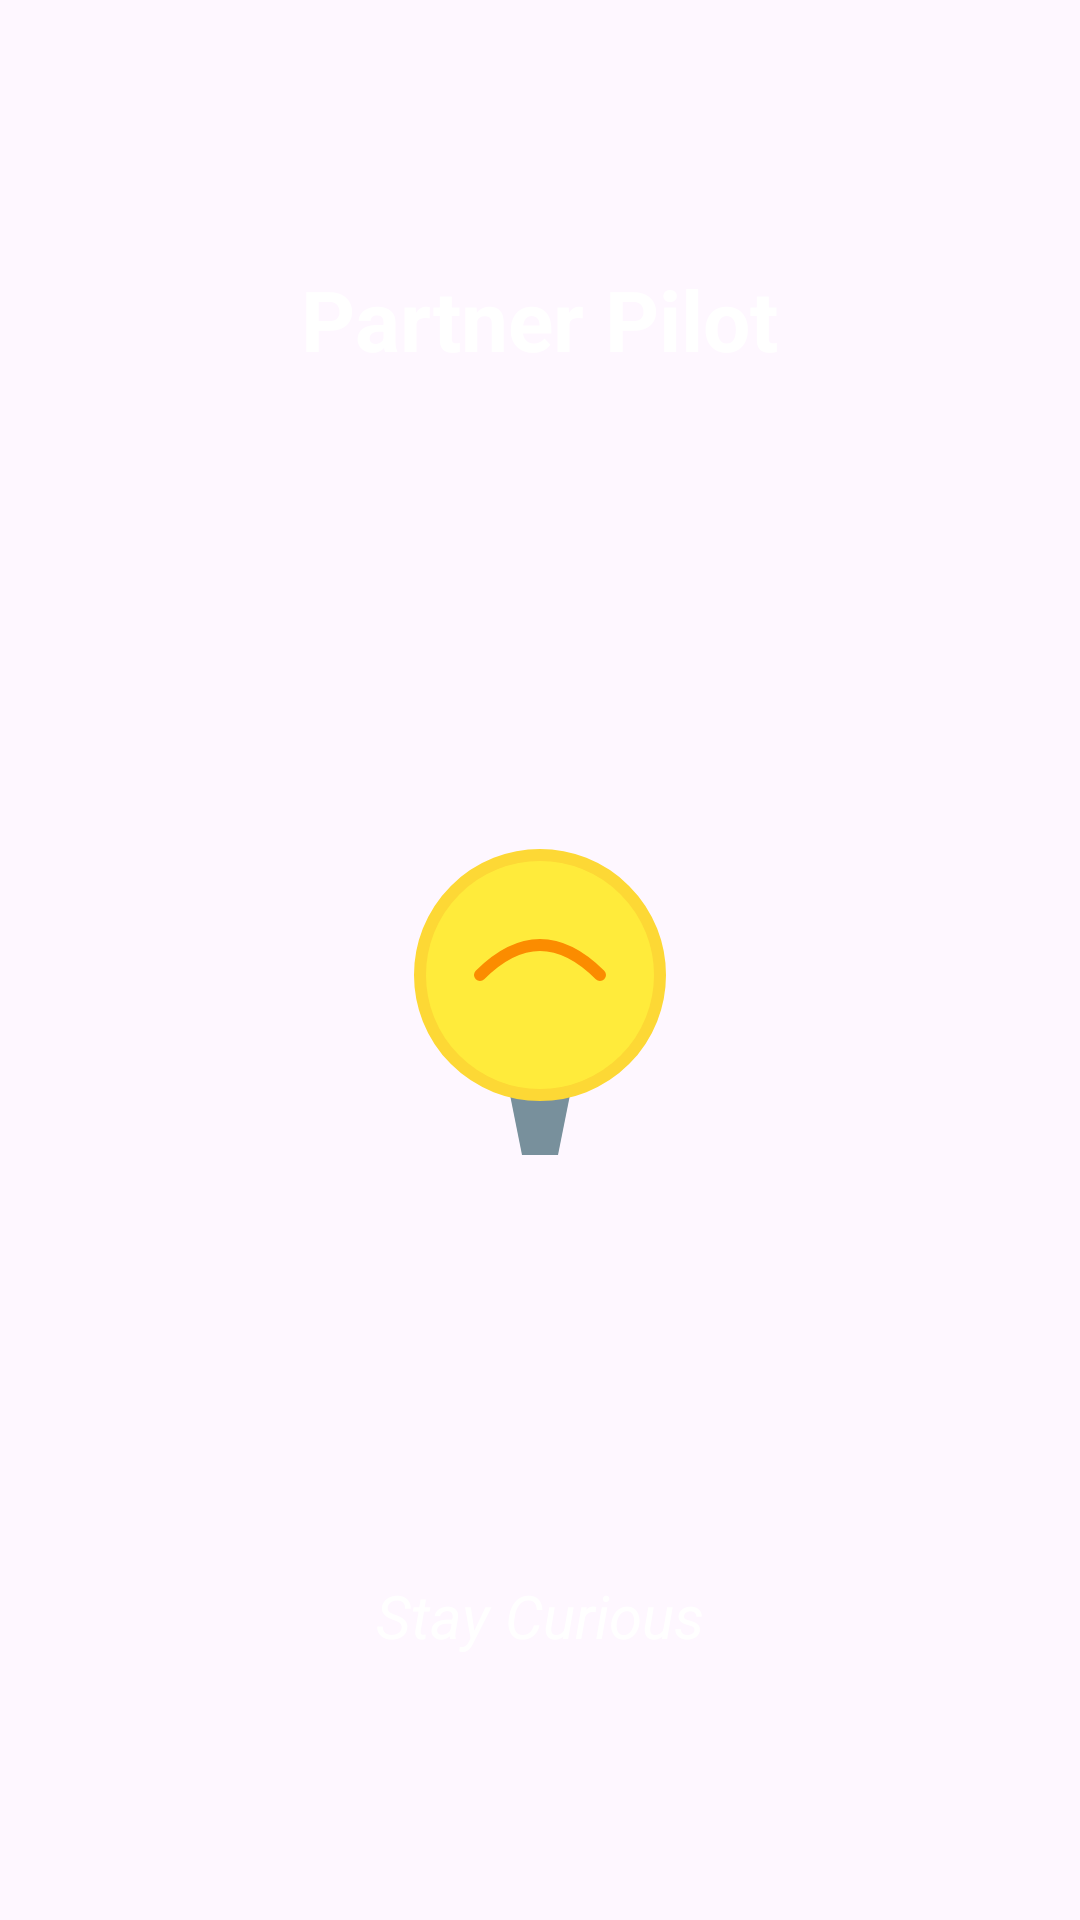

Point at icon controls on the screen. Image size 1080px×1920px, points as point (x, y).
animated bulb: point (540, 1002)
